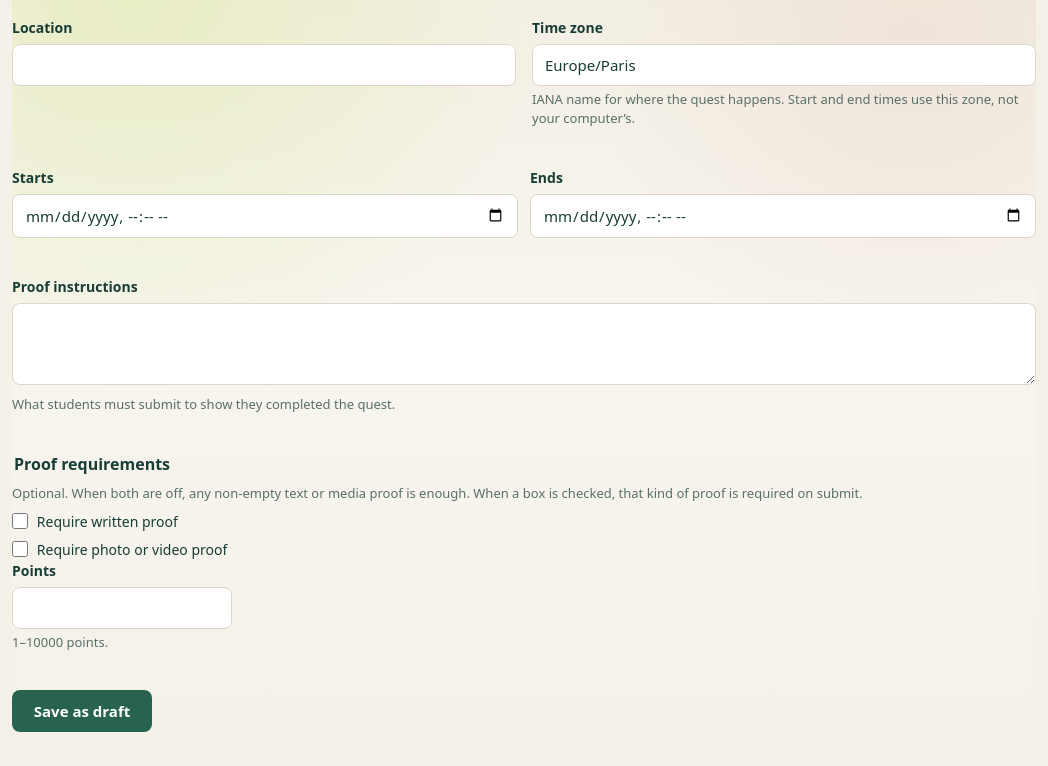
Create quest form (QB-58) › validates required fields without a request
(page scrolled)
Click the button "Save as draft" at {"x": 82, "y": 711}, box [12,690,152,732]
(page scrolled)
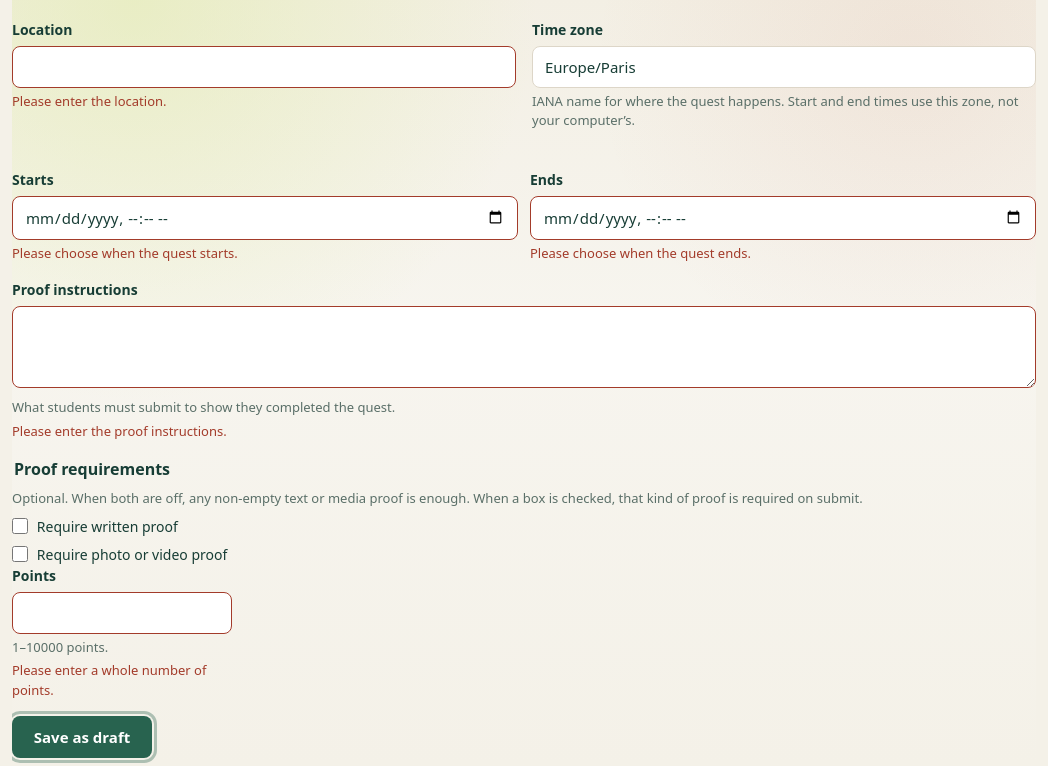
Expected: the text "Please enter the location." is shown, [12,92,166,110]
Expected: the text "Please choose when the quest starts." is shown, [12,244,238,262]
Expected: the text "Please choose when the quest ends." is shown, [530,244,751,262]
